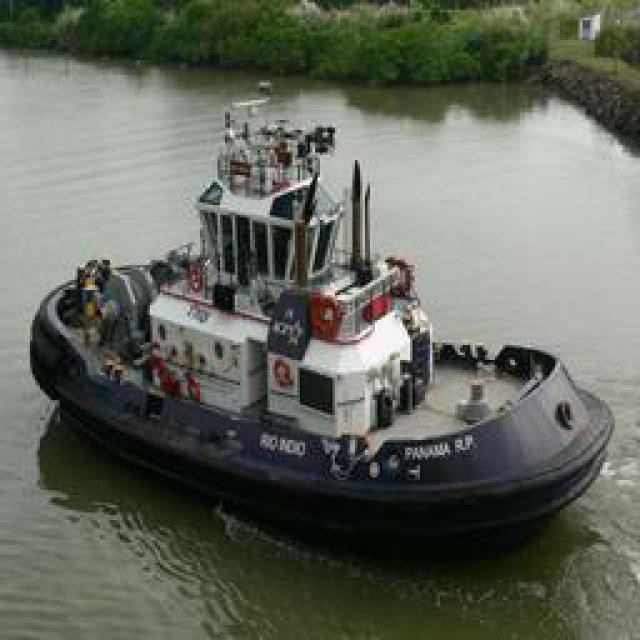Ship: (33, 101, 618, 556)
